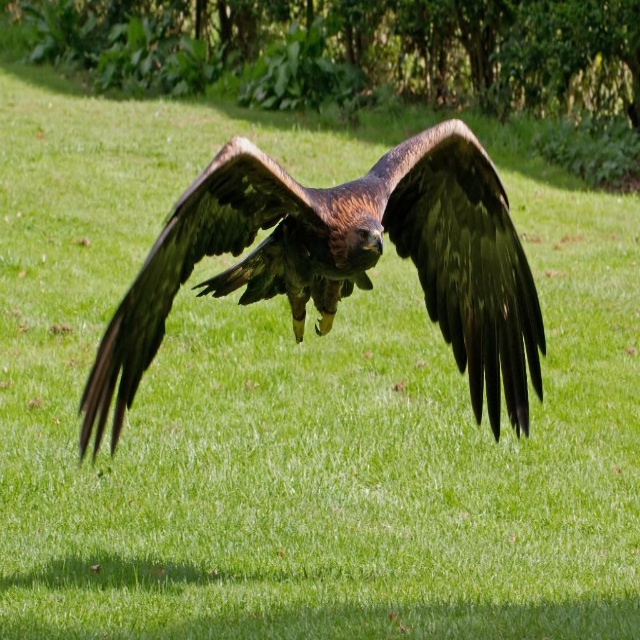Eagle: (66, 111, 562, 491)
